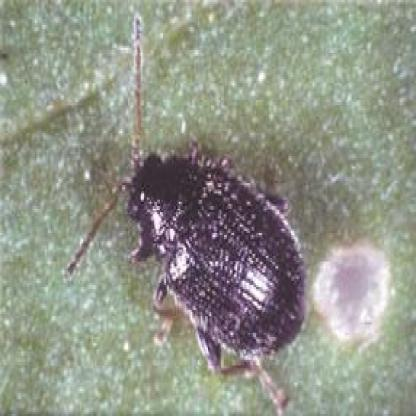beetle: (84, 16, 310, 415)
